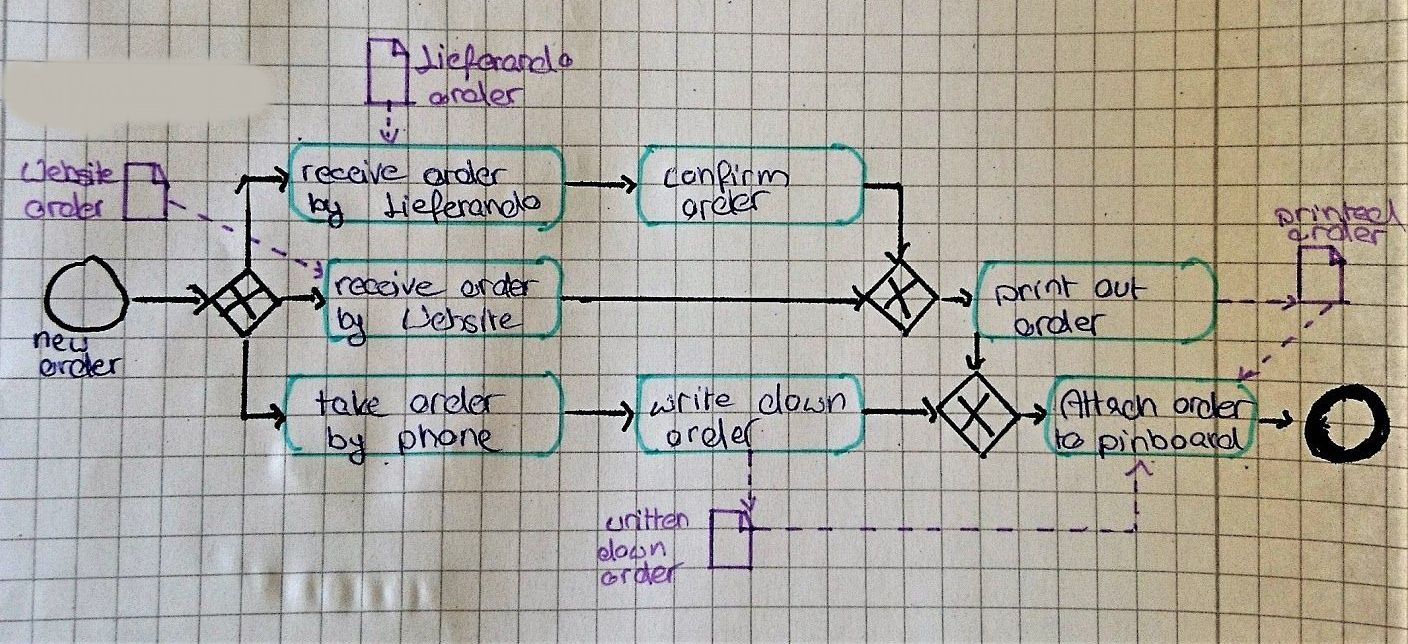Attach: (1060, 389, 1161, 421)
Lieferando: (415, 41, 575, 78), (381, 187, 545, 222)
Website: (400, 304, 523, 337), (17, 156, 117, 189)
by: (326, 424, 375, 471), (331, 306, 373, 345), (308, 188, 345, 227)
confirm: (664, 160, 790, 193)
down: (755, 383, 850, 421), (595, 535, 668, 565)
new: (28, 329, 94, 353)
order: (665, 417, 762, 451), (679, 188, 773, 222), (408, 385, 502, 418), (1172, 390, 1261, 424), (1012, 308, 1105, 339), (1285, 222, 1391, 248), (426, 80, 528, 107), (21, 192, 109, 222), (423, 158, 509, 188), (459, 270, 540, 301), (37, 353, 128, 380), (603, 561, 683, 590)
out: (1093, 276, 1149, 302)
phone: (397, 421, 498, 458)
pinboard: (1097, 426, 1247, 456)
print: (990, 274, 1078, 307)
printed: (1273, 198, 1406, 226)
receive: (333, 270, 445, 300), (299, 160, 407, 189)
take: (313, 388, 387, 418)
to: (1048, 425, 1094, 456)
write: (649, 385, 733, 418)
written: (599, 504, 697, 532)
